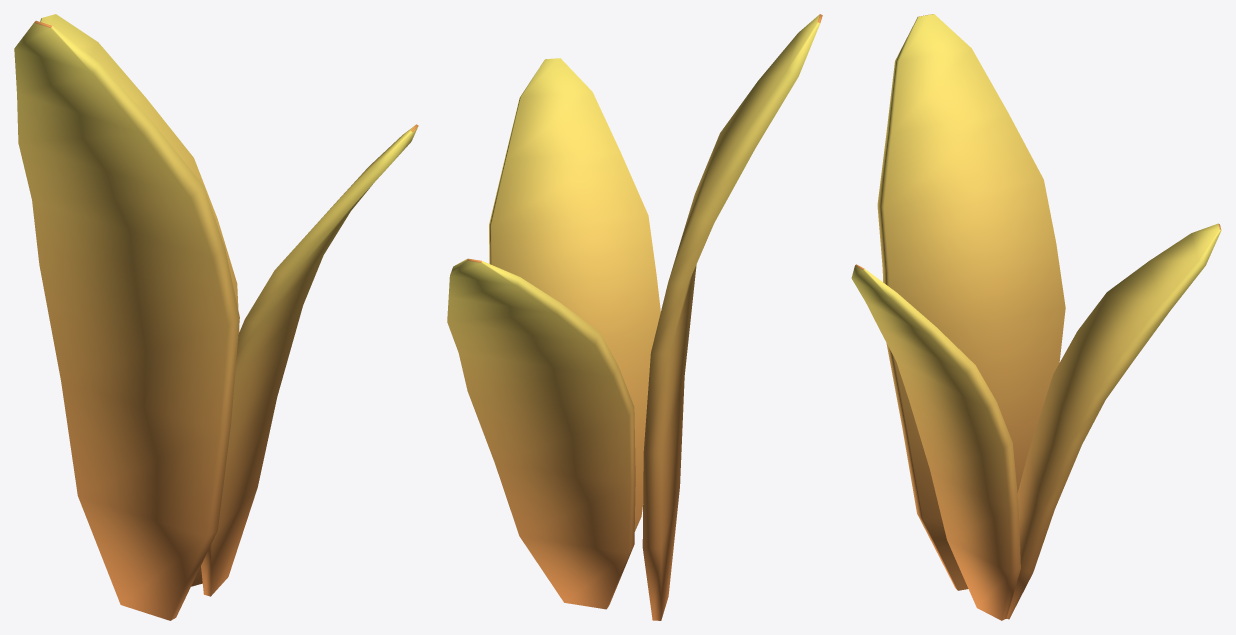
File: Grass006.fbx
3 views of the same model, side by side, from view 1: azimuth 30°, elevation 25°; view 2: azimuth 150°, elevation 25°; view 3: azimuth 270°, elevation 25° (orthographic). The views are drawn at different scales.
Visible parts, largest first — view 1: Grass006; view 2: Grass006; view 3: Grass006.
Part boxes in pixels (x1,y1,x2,y2): Grass006: [14, 14, 418, 620]; Grass006: [447, 14, 822, 620]; Grass006: [851, 14, 1221, 620].
Bounding box in the file's own units: 43.03 × 75.82 × 49.16.
